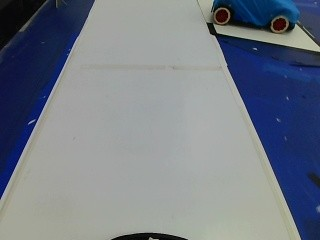car: (208, 0, 304, 38)
